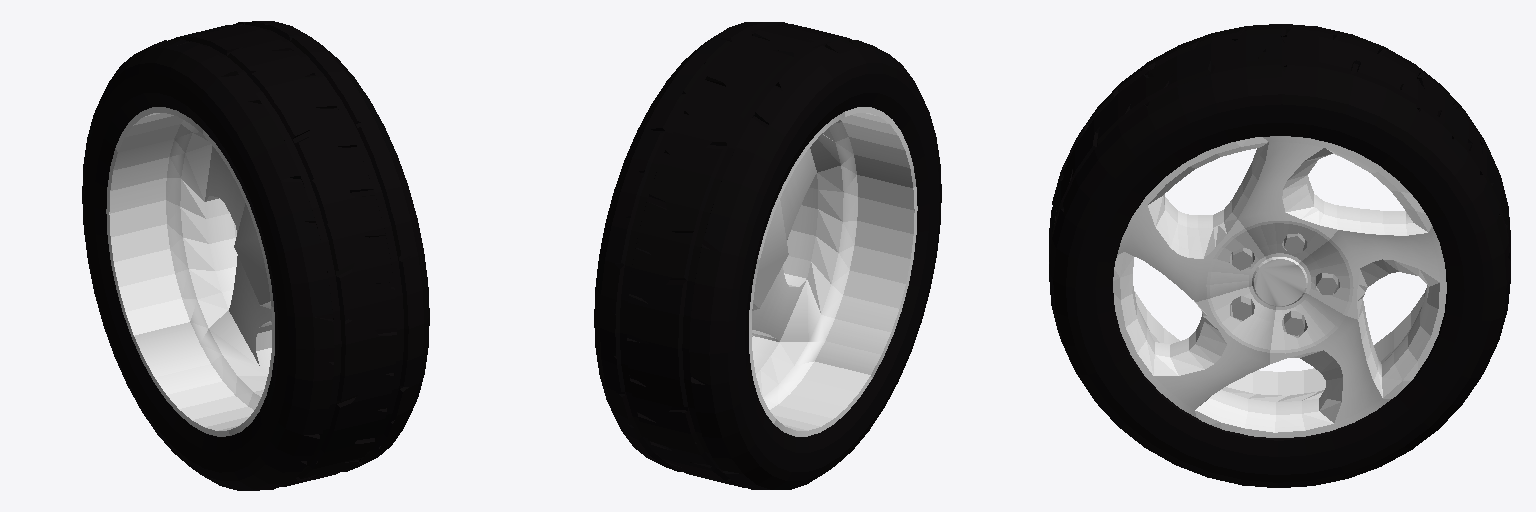
3 views of the same model, side by side, from view 1: azimuth 30°, elevation 25°; view 2: azimuth 150°, elevation 25°; view 3: azimuth 270°, elevation 25° (orthographic).
Visible parts, largest first — view 1: Cube.002; view 2: Cube.002; view 3: Cube.002.
Part boxes in pixels (bbox=[...]): Cube.002: bbox=[82, 21, 429, 490]; Cube.002: bbox=[594, 22, 941, 489]; Cube.002: bbox=[1049, 24, 1510, 487].
Bounding box in the file's own units: 0.8094 × 2.34 × 2.34.
Materials: 2 (2 with a texture image).